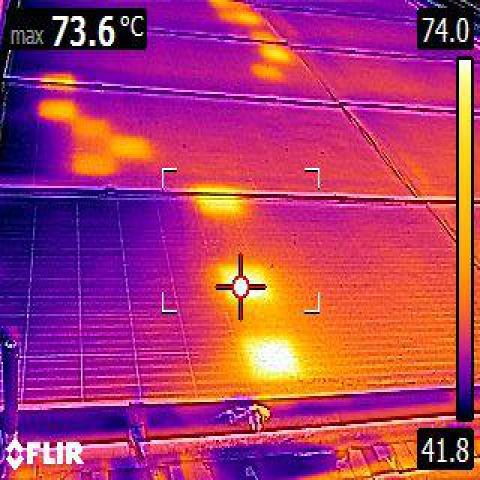fault: (250, 339, 292, 378), (198, 192, 238, 216), (40, 99, 72, 121), (75, 153, 107, 175), (118, 136, 146, 159), (265, 46, 291, 68), (76, 116, 106, 135), (220, 11, 258, 26), (257, 65, 279, 81)
